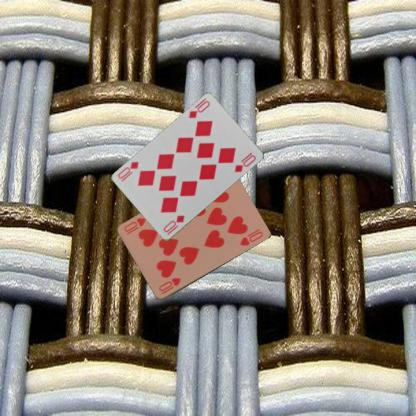10d: (161, 213, 186, 236), (186, 98, 211, 120)
10h: (156, 275, 182, 296)
